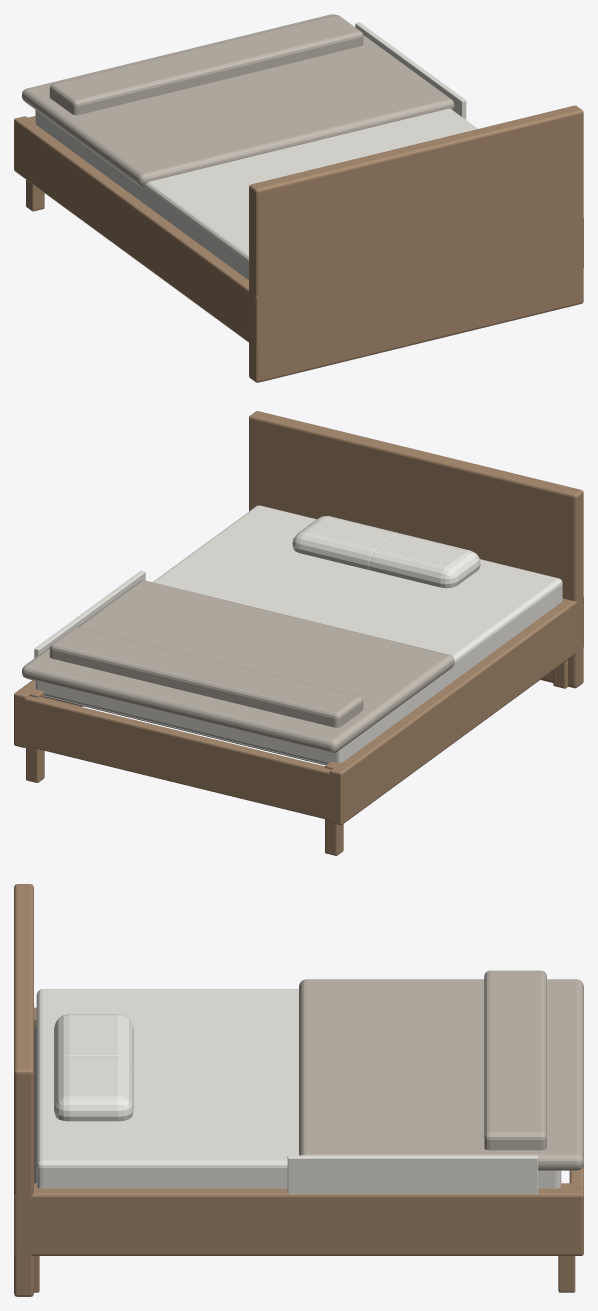
The model's file is bed_01.glb.
3 renders of one model, top to bottom at view 1: azimuth 30°, elevation 25°; view 2: azimuth 150°, elevation 25°; view 3: azimuth 270°, elevation 25°, orthographic. The views are drawn at different scales.
Parts seen in each view (by area): view 1: bed_01; view 2: bed_01; view 3: bed_01.
Boxes of the visible parts, x1,y1,x2,y2 form: bed_01: (14, 14, 583, 382); bed_01: (14, 411, 583, 855); bed_01: (14, 884, 583, 1296).
Size of the model in its own units: 1.56 by 0.88 by 2.
